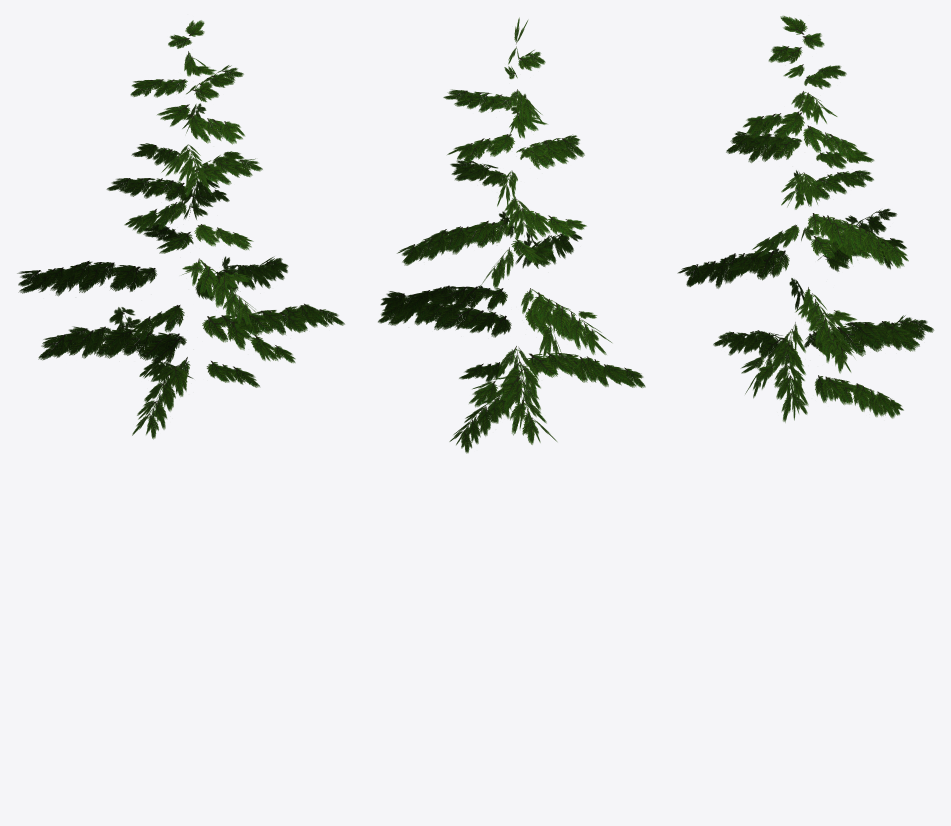
The model's file is alp_Env_Pine_01.glb.
The picture shows the model from 3 angles, left to right: view 1: azimuth 30°, elevation 25°; view 2: azimuth 150°, elevation 25°; view 3: azimuth 270°, elevation 25°; orthographic projection.
Parts seen in each view (by area): view 1: SM_Env_Pine_01_LOD0; view 2: SM_Env_Pine_01_LOD0; view 3: SM_Env_Pine_01_LOD0.
Part boxes in pixels (x1=…): SM_Env_Pine_01_LOD0: x1=17, y1=20, x2=344, y2=439; SM_Env_Pine_01_LOD0: x1=378, y1=17, x2=645, y2=453; SM_Env_Pine_01_LOD0: x1=677, y1=15, x2=933, y2=422.
Bounding box in the file's own units: 6.26 × 16.76 × 4.98.
1 material, 1 textured.
